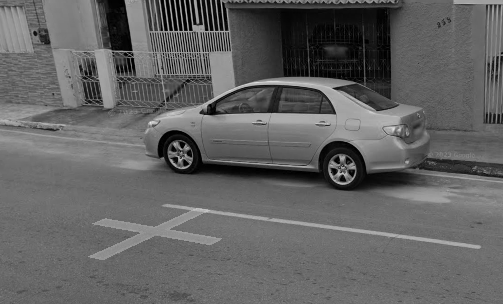car: (135, 70, 435, 200)
